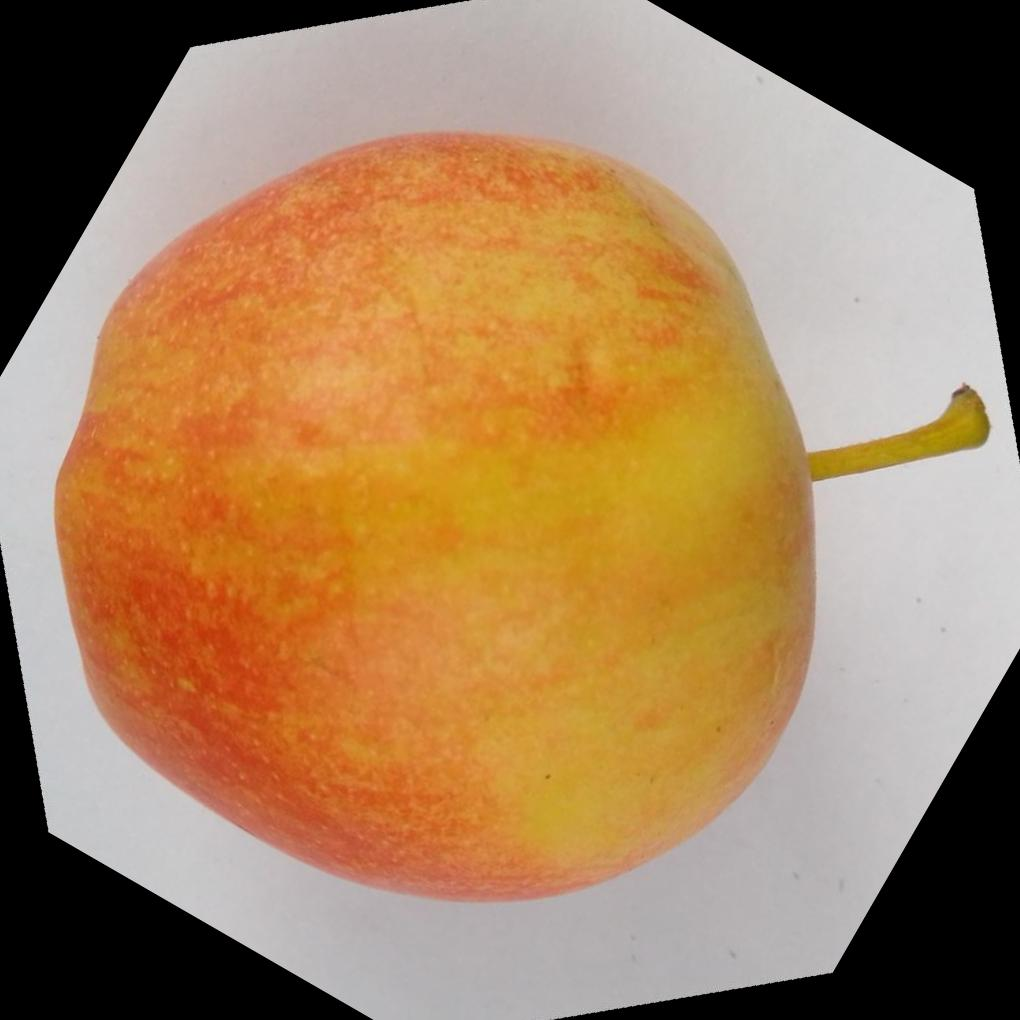FreshGuava: (46, 127, 817, 902)
